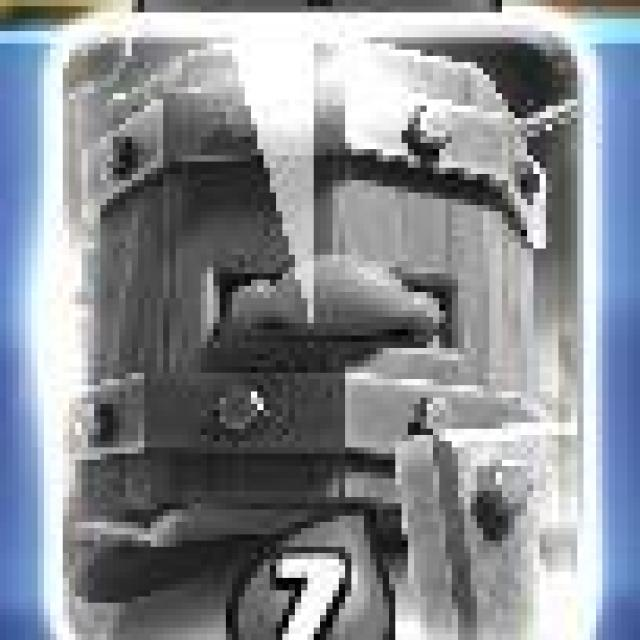Evolved_Recruits: (43, 18, 602, 640)
